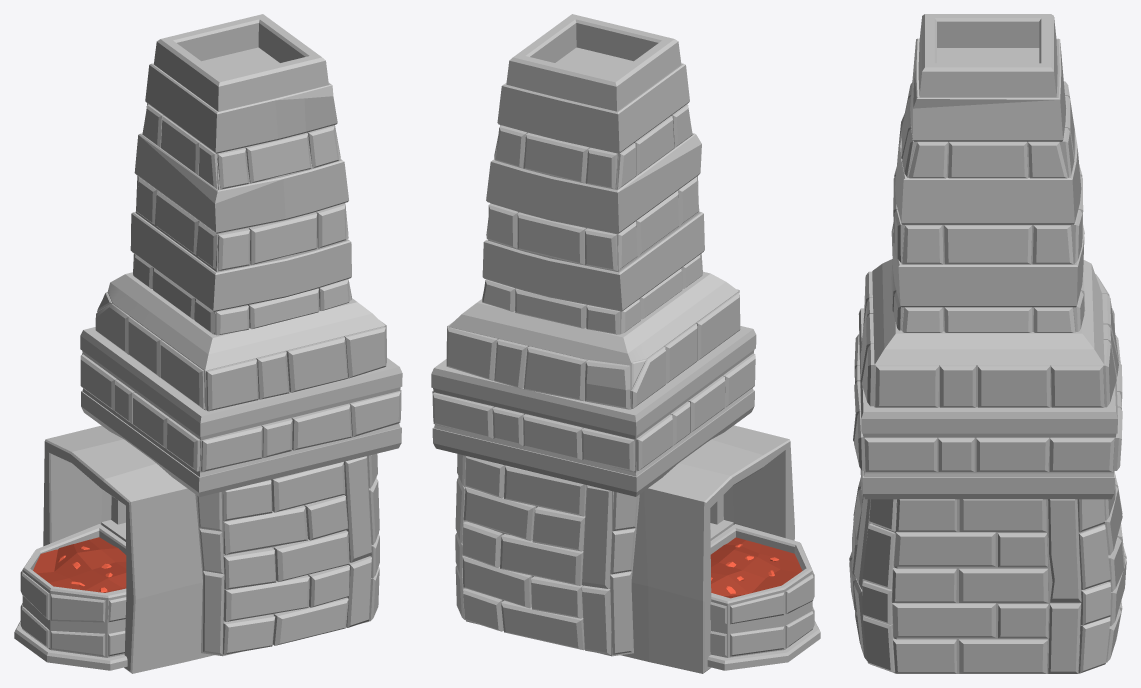
File: Forge.fbx
3 views of the same model, side by side, from view 1: azimuth 30°, elevation 25°; view 2: azimuth 150°, elevation 25°; view 3: azimuth 270°, elevation 25° (orthographic). The views are drawn at different scales.
Parts seen in each view (by area): view 1: Forge_02, Coal_ON; view 2: Forge_02, Coal_ON; view 3: Forge_02.
Boxes of the visible parts, x1,y1,x2,y2 form: Forge_02: [14, 14, 402, 673]; Coal_ON: [33, 537, 126, 592]; Forge_02: [431, 14, 820, 673]; Coal_ON: [710, 537, 802, 598]; Forge_02: [849, 14, 1126, 673].
Bounding box in the file's own units: 336 × 568 × 241.
